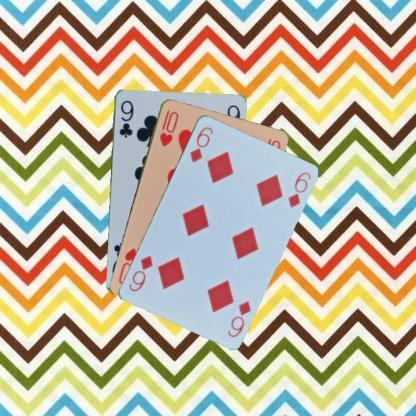10h: (156, 106, 180, 148)
6d: (225, 298, 252, 338), (188, 124, 214, 164)
9c: (116, 97, 135, 139)
